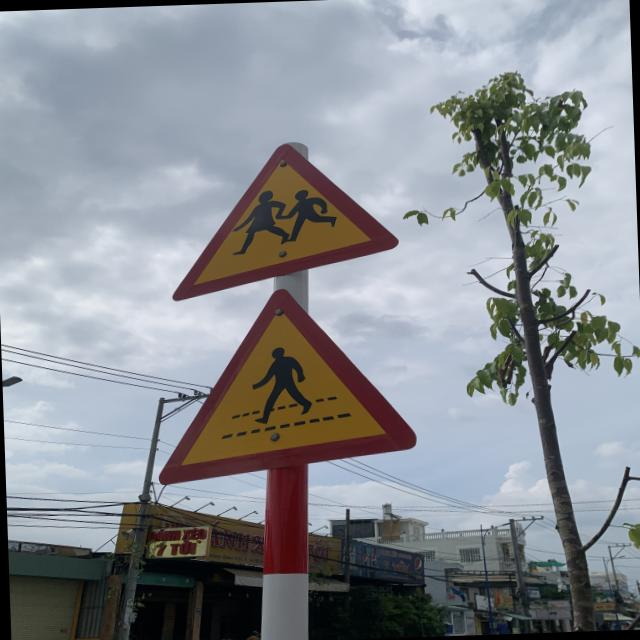Duong_Nguoi_Di_Bo_Sang_Ngang: (152, 284, 418, 484)
Vong_Xuyen: (168, 140, 400, 299)
